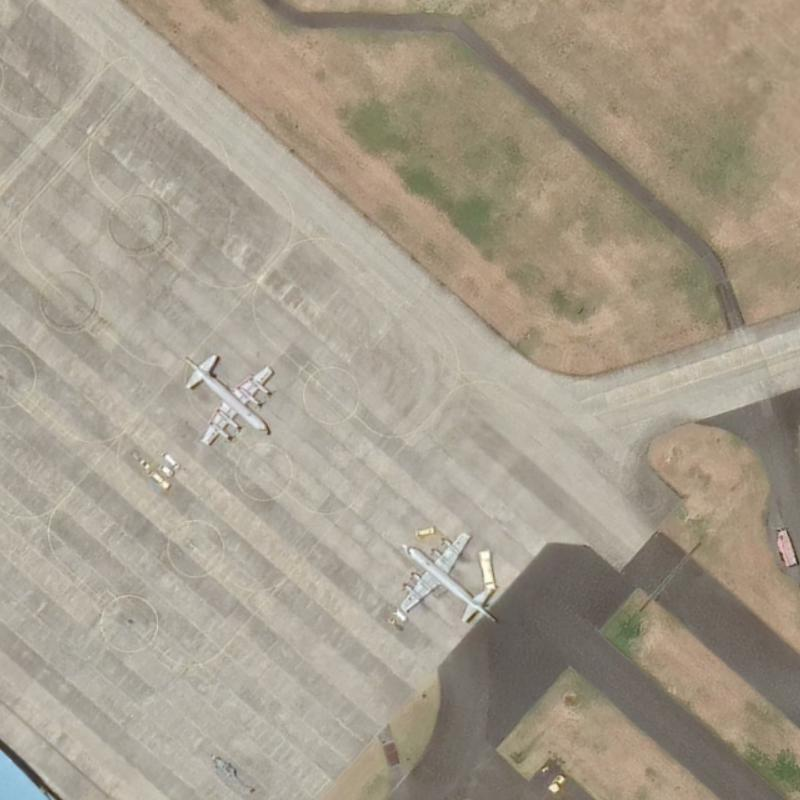A9: (386, 523, 501, 633), (177, 343, 287, 454)
